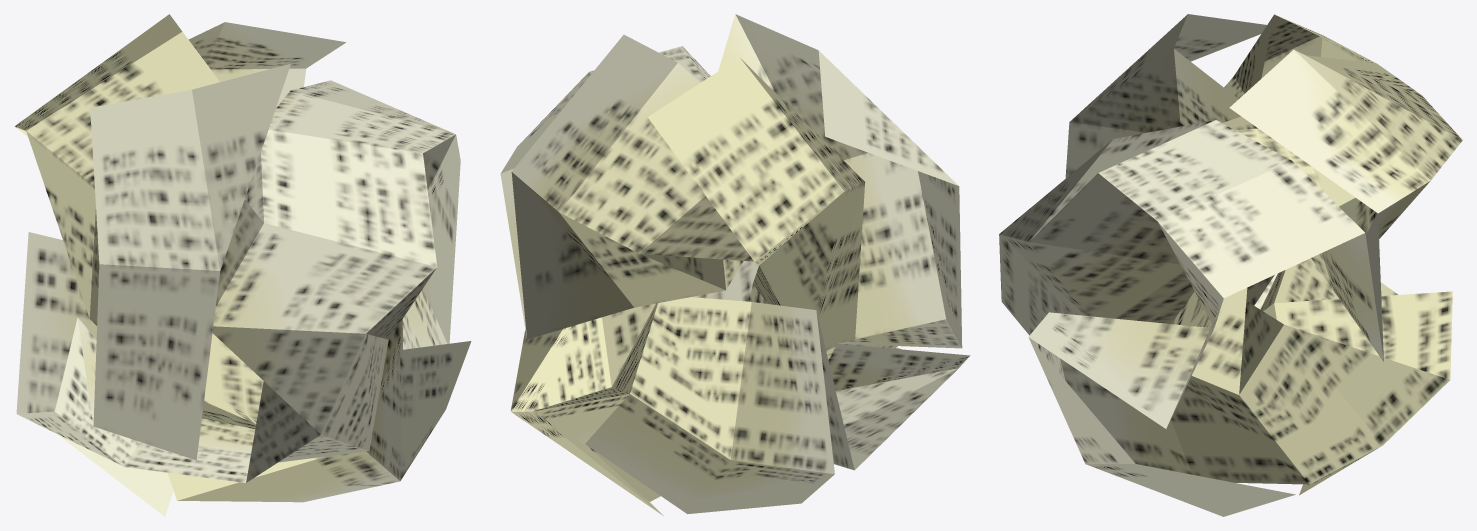
File: paperball.obj
3 views of the same model, side by side, from view 1: azimuth 30°, elevation 25°; view 2: azimuth 150°, elevation 25°; view 3: azimuth 270°, elevation 25° (orthographic). The views are drawn at different scales.
Visible parts, largest first — view 1: Plane__0; view 2: Plane__0; view 3: Plane__0.
Part boxes in pixels (x1=…): Plane__0: x1=14, y1=14, x2=471, y2=516; Plane__0: x1=500, y1=14, x2=970, y2=515; Plane__0: x1=999, y1=14, x2=1462, y2=516.
Size of the model in its own units: 0.0887 by 0.0929 by 0.0853.
1 material, 1 textured.
